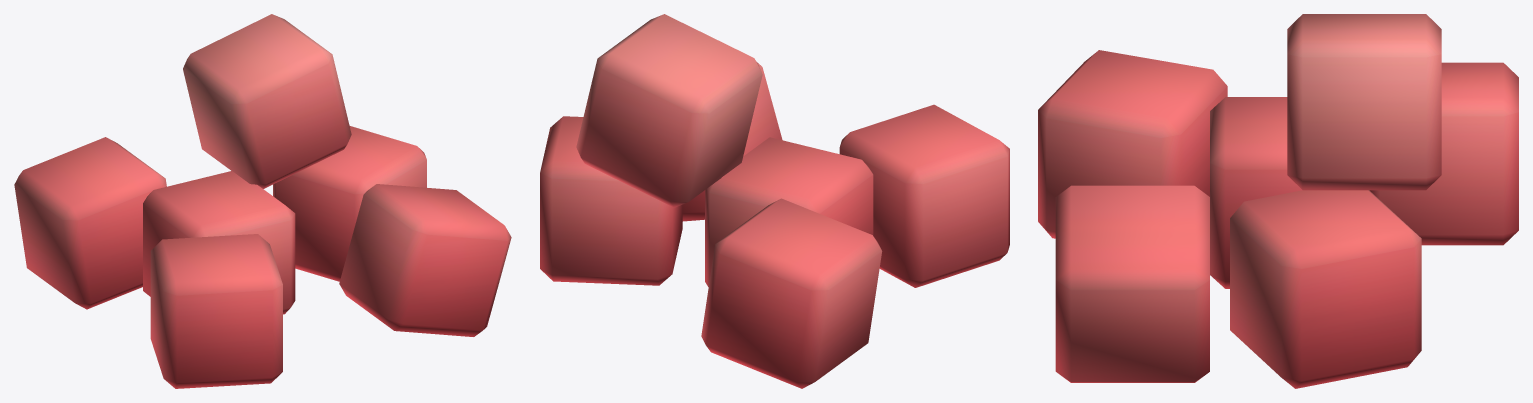
Rendered from food-ingredient-steak-pieces.glb.
3 views of the same model, side by side, from view 1: azimuth 30°, elevation 25°; view 2: azimuth 150°, elevation 25°; view 3: azimuth 270°, elevation 25° (orthographic). The views are drawn at different scales.
Parts seen in each view (by area): view 1: food_ingredient_steak_pieces; view 2: food_ingredient_steak_pieces; view 3: food_ingredient_steak_pieces.
Boxes of the visible parts, box(x1,y1,x2,y2) form: food_ingredient_steak_pieces: box(14, 14, 511, 388); food_ingredient_steak_pieces: box(540, 14, 1009, 388); food_ingredient_steak_pieces: box(1038, 14, 1518, 388).
Bounding box in the file's own units: 0.647 × 0.4348 × 0.6228.
Materials: 1 (1 with a texture image).
